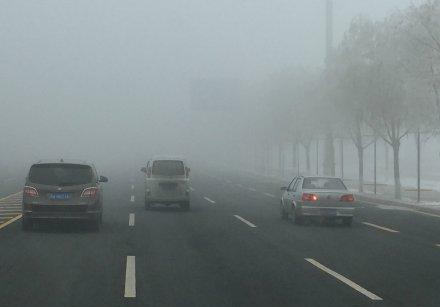car: (20, 156, 110, 230), (279, 174, 356, 226), (139, 155, 192, 210)
